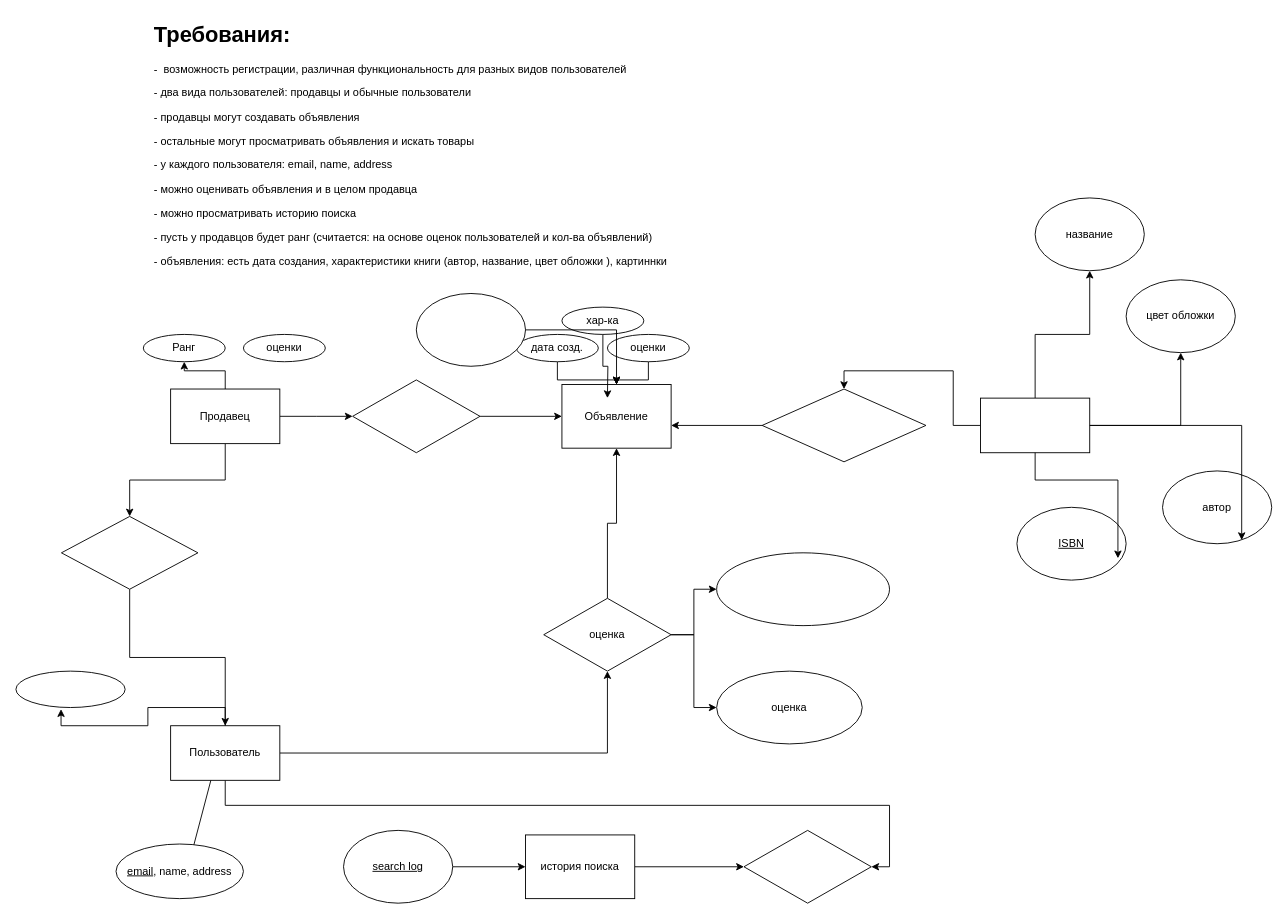
Some shapes in this 1288 by 922 pixel diagram are drawn without their labels. The shapes that lost their labels are listed below. From the top down, each one's centre as x and y in pixels, then its label:
At (470,329): "картинка".
At (416,416): "создание".
At (843,425): "Предлагается".
At (1035,425): "книга".
At (129,552): "IS A".
At (803,589): "отзыв".
At (70,689): "Роль (если роль только одна)".
At (807,866): "просмотр история".
